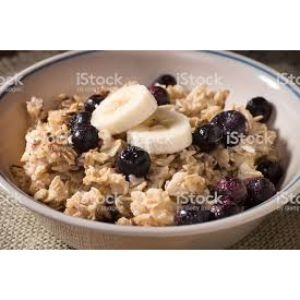oat_brain food: (28, 98, 231, 211)
